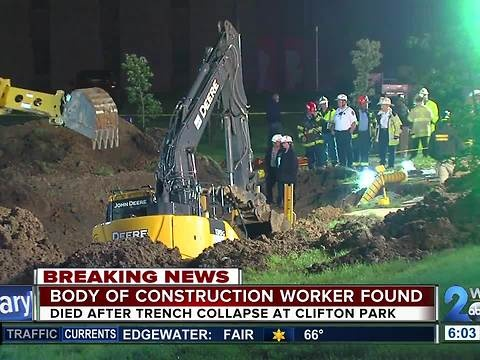none: (414, 95, 424, 105)
red: (305, 101, 316, 116), (358, 94, 369, 108)
white: (280, 134, 293, 150), (336, 94, 348, 108), (380, 97, 392, 111), (270, 133, 281, 147), (318, 96, 328, 109), (420, 88, 428, 99)
